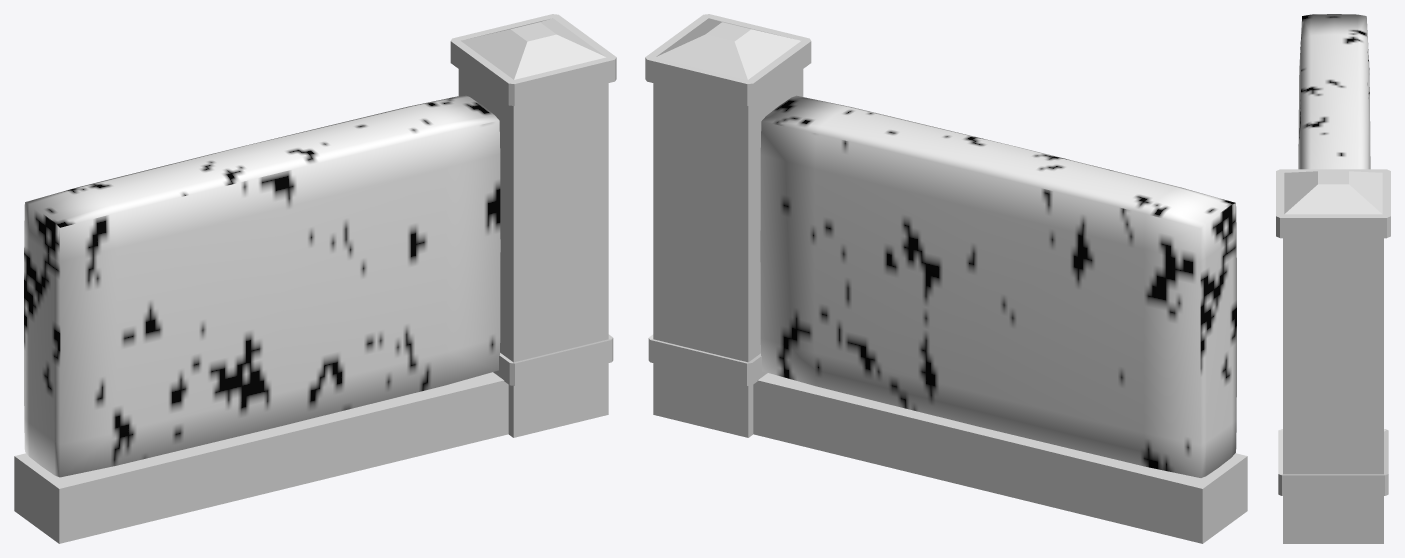
The model's file is fence.fbx.
The picture shows the model from 3 angles, left to right: view 1: azimuth 30°, elevation 25°; view 2: azimuth 150°, elevation 25°; view 3: azimuth 270°, elevation 25°; orthographic projection. The views are drawn at different scales.
Parts seen in each view (by area): view 1: little_hedge_out_Cube.003, Cube; view 2: little_hedge_out_Cube.003, Cube; view 3: Cube, little_hedge_out_Cube.003.
Boxes of the visible parts, x1=… form: little_hedge_out_Cube.003: x1=24, y1=95, x2=500, y2=477; Cube: x1=14, y1=14, x2=616, y2=543; little_hedge_out_Cube.003: x1=760, y1=95, x2=1236, y2=477; Cube: x1=645, y1=14, x2=1247, y2=543; Cube: x1=1276, y1=169, x2=1390, y2=543; little_hedge_out_Cube.003: x1=1298, y1=14, x2=1370, y2=169.
Size of the model in its own units: 579 by 376 by 114.
